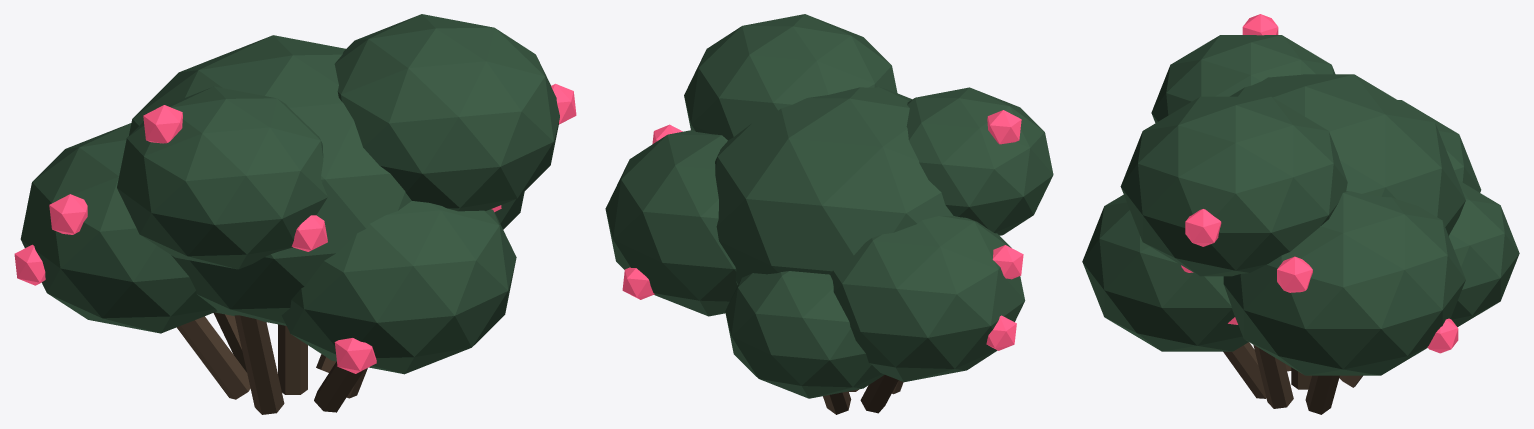
The model's file is env_berry_bush.glb.
3 views of the same model, side by side, from view 1: azimuth 30°, elevation 25°; view 2: azimuth 150°, elevation 25°; view 3: azimuth 270°, elevation 25° (orthographic). The views are drawn at different scales.
Visible parts, largest first — view 1: env_berry_bush; view 2: env_berry_bush; view 3: env_berry_bush.
Boxes of the visible parts, bbox=[...] form: env_berry_bush: bbox=[14, 14, 576, 414]; env_berry_bush: bbox=[605, 14, 1053, 414]; env_berry_bush: bbox=[1082, 14, 1519, 414].
Size of the model in its own units: 1.27 by 0.9554 by 1.14.
